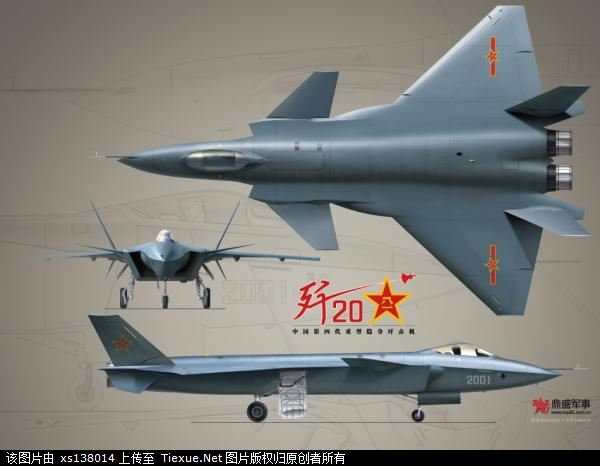airplane: (85, 5, 592, 322), (74, 311, 590, 423), (62, 190, 325, 312)
